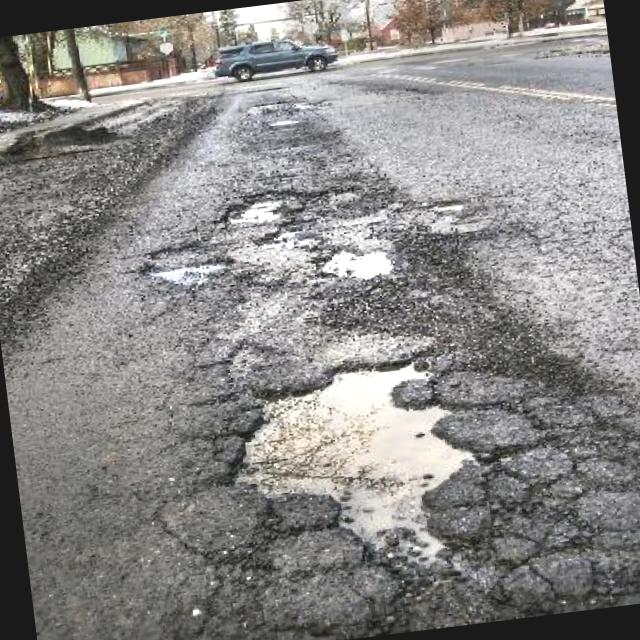Lubang: (239, 364, 473, 558), (227, 197, 302, 227), (323, 251, 393, 278), (150, 265, 226, 285), (255, 229, 313, 249), (431, 201, 465, 211)
